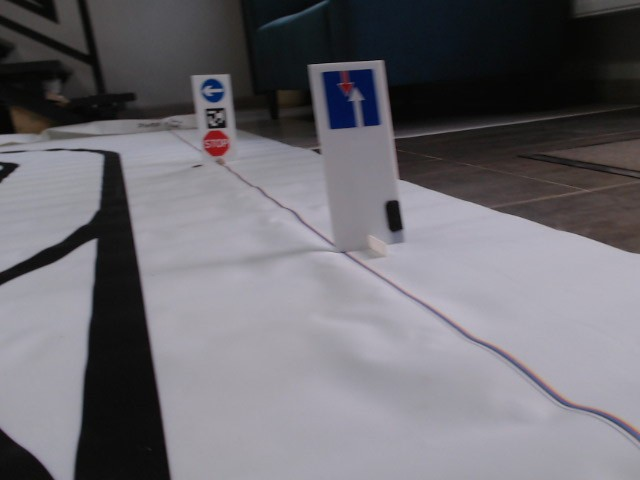Stop: (202, 129, 230, 157)
priority_movement: (322, 68, 382, 130)
